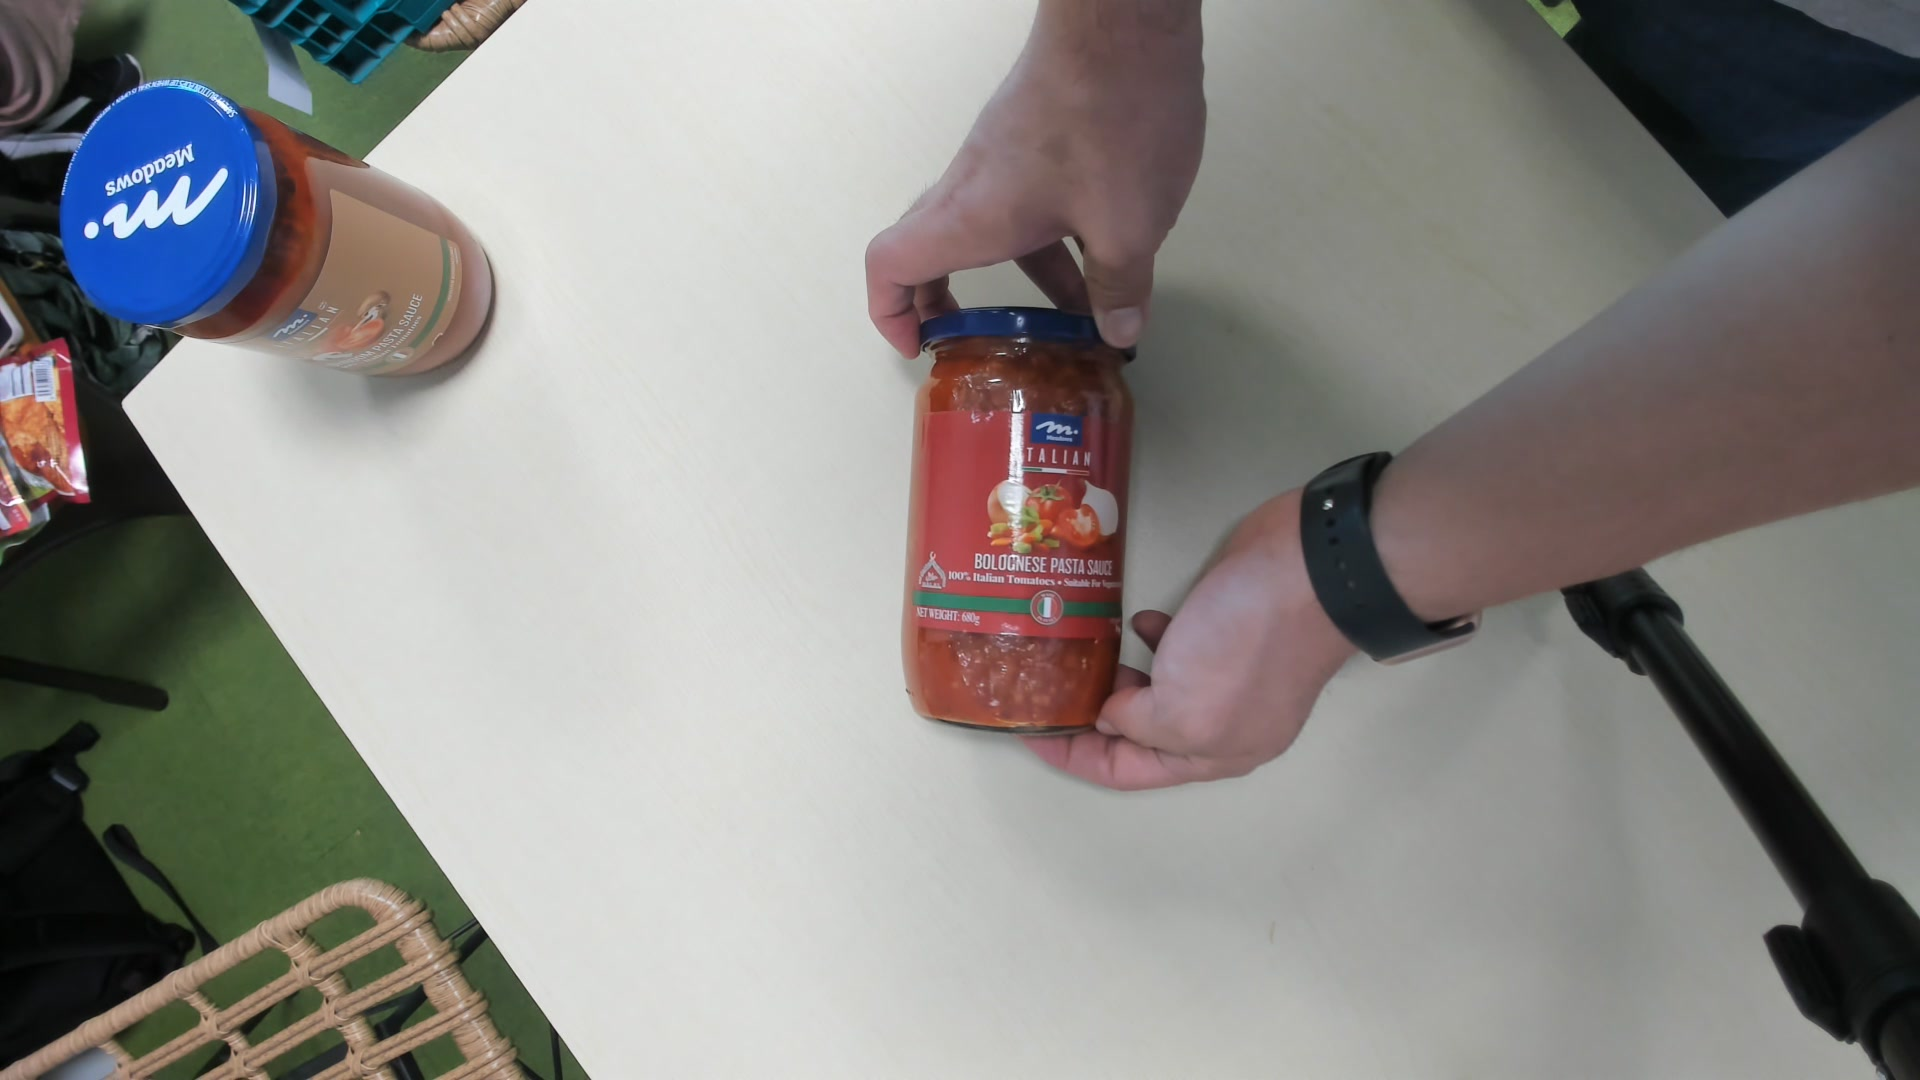PastaSauce_600-699g_Halal_NonHealthy: (898, 309, 1137, 741)
